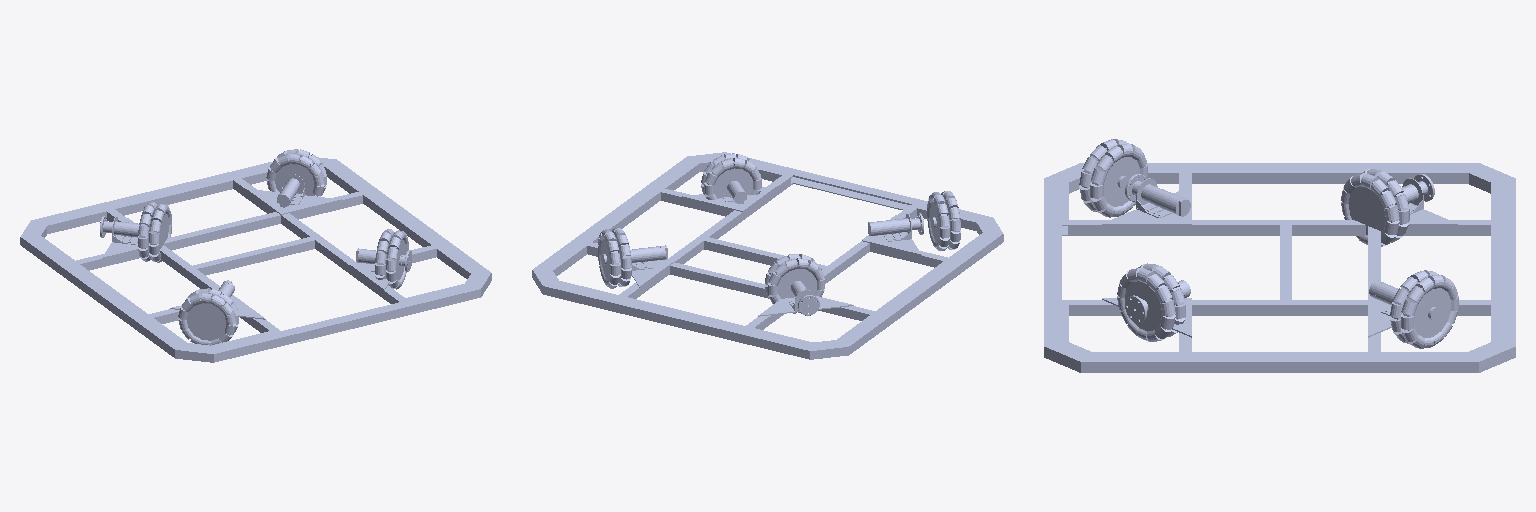
robot.urdf — Final_assembly_robocon:
<?xml version="1.0" encoding="utf-8"?>
<!-- This URDF was automatically created by SolidWorks to URDF Exporter! Originally created by [author] ([email redacted]) 
     Commit Version: 1.6.0-1-g15f4949  Build Version: 1.6.7594.29634
     For more information, please see http://wiki.ros.org/sw_urdf_exporter -->
<robot
  name="Final_assembly_robocon">
  <link
    name="base_link">
    <inertial>
      <origin
        xyz="-1.37853384098331E-07 0.00911018032229258 -0.0138175795946178"
        rpy="0 0 0" />
      <mass
        value="3.33742395913258" />
      <inertia
        ixx="0.250426120078326"
        ixy="-3.00125460809131E-08"
        ixz="4.78803539427229E-09"
        iyy="0.51613258114542"
        iyz="-5.01539743876125E-05"
        izz="0.266376294317245" />
    </inertial>
    <visual>
      <origin
        xyz="0 0 0"
        rpy="0 0 0" />
      <geometry>
        <mesh
          filename="package://Final_assembly_robocon/meshes/base_link.STL" />
      </geometry>
      <material
        name="">
        <color
          rgba="0.792156862745098 0.819607843137255 0.933333333333333 1" />
      </material>
    </visual>
    <collision>
      <origin
        xyz="0 0 0"
        rpy="0 0 0" />
      <geometry>
        <mesh
          filename="package://Final_assembly_robocon/meshes/base_link.STL" />
      </geometry>
    </collision>
  </link>
  <link
    name="front_left">
    <inertial>
      <origin
        xyz="-5.5511E-17 1.0408E-16 0.11113"
        rpy="0 0 0" />
      <mass
        value="0.80093" />
      <inertia
        ixx="0.0012851"
        ixy="1.3067E-18"
        ixz="-5.9631E-19"
        iyy="0.0012851"
        iyz="5.2252E-19"
        izz="0.0025006" />
    </inertial>
    <visual>
      <origin
        xyz="0 0 0"
        rpy="0 0 0" />
      <geometry>
        <mesh
          filename="package://Final_assembly_robocon/meshes/front_left.STL" />
      </geometry>
      <material
        name="">
        <color
          rgba="0.79216 0.81961 0.93333 1" />
      </material>
    </visual>
    <collision>
      <origin
        xyz="0 0 0"
        rpy="0 0 0" />
      <geometry>
        <mesh
          filename="package://Final_assembly_robocon/meshes/front_left.STL" />
      </geometry>
    </collision>
  </link>
  <joint
    name="front_left_joint"
    type="continuous">
    <origin
      xyz="0.24229 -0.24229 0.0442"
      rpy="1.5708 0 0.7854" />
    <parent
      link="base_link" />
    <child
      link="front_left" />
    <axis
      xyz="0 0 1" />
    <limit
      effort="10"
      velocity="10" />
    <dynamics
      damping="1000"
      friction="1000" />
  </joint>
  <link
    name="front_right">
    <inertial>
      <origin
        xyz="-2.7756E-17 8.3267E-17 0.00097337"
        rpy="0 0 0" />
      <mass
        value="0.80093" />
      <inertia
        ixx="0.0012851"
        ixy="9.6743E-19"
        ixz="-1.0842E-19"
        iyy="0.0012851"
        iyz="-3.8401E-19"
        izz="0.0025006" />
    </inertial>
    <visual>
      <origin
        xyz="0 0 0"
        rpy="0 0 0" />
      <geometry>
        <mesh
          filename="package://Final_assembly_robocon/meshes/front_right.STL" />
      </geometry>
      <material
        name="">
        <color
          rgba="0.79216 0.81961 0.93333 1" />
      </material>
    </visual>
    <collision>
      <origin
        xyz="0 0 0"
        rpy="0 0 0" />
      <geometry>
        <mesh
          filename="package://Final_assembly_robocon/meshes/front_right.STL" />
      </geometry>
    </collision>
  </link>
  <joint
    name="front_right_joint"
    type="continuous">
    <origin
      xyz="-0.32018 -0.32018 0.0442"
      rpy="1.5708 0 -0.7854" />
    <parent
      link="base_link" />
    <child
      link="front_right" />
    <axis
      xyz="0 0 1" />
    <limit
      effort="10"
      velocity="10" />
    <dynamics
      damping="1000"
      friction="1000" />
  </joint>
  <link
    name="back_left">
    <inertial>
      <origin
        xyz="2.7756E-17 9.7145E-17 0.00097337"
        rpy="0 0 0" />
      <mass
        value="0.80093" />
      <inertia
        ixx="0.0012851"
        ixy="1.2468E-18"
        ixz="2.7105E-19"
        iyy="0.0012851"
        iyz="-2.6834E-18"
        izz="0.0025006" />
    </inertial>
    <visual>
      <origin
        xyz="0 0 0"
        rpy="0 0 0" />
      <geometry>
        <mesh
          filename="package://Final_assembly_robocon/meshes/back_left.STL" />
      </geometry>
      <material
        name="">
        <color
          rgba="0.79216 0.81961 0.93333 1" />
      </material>
    </visual>
    <collision>
      <origin
        xyz="0 0 0"
        rpy="0 0 0" />
      <geometry>
        <mesh
          filename="package://Final_assembly_robocon/meshes/back_left.STL" />
      </geometry>
    </collision>
  </link>
  <joint
    name="back_left_joint"
    type="continuous">
    <origin
      xyz="0.32018 0.32018 0.0442"
      rpy="1.5708 0.42736 2.3562" />
    <parent
      link="base_link" />
    <child
      link="back_left" />
    <axis
      xyz="0 0 -1" />
    <limit
      effort="10"
      velocity="10" />
    <dynamics
      damping="1000"
      friction="1000" />
  </joint>
  <link
    name="back_right">
    <inertial>
      <origin
        xyz="2.6368E-16 8.3267E-17 0.14414"
        rpy="0 0 0" />
      <mass
        value="0.80093" />
      <inertia
        ixx="0.0012851"
        ixy="1.03E-18"
        ixz="1.9787E-18"
        iyy="0.0012851"
        iyz="2.1684E-19"
        izz="0.0025006" />
    </inertial>
    <visual>
      <origin
        xyz="0 0 0"
        rpy="0 0 0" />
      <geometry>
        <mesh
          filename="package://Final_assembly_robocon/meshes/back_right.STL" />
      </geometry>
      <material
        name="">
        <color
          rgba="0.79216 0.81961 0.93333 1" />
      </material>
    </visual>
    <collision>
      <origin
        xyz="0 0 0"
        rpy="0 0 0" />
      <geometry>
        <mesh
          filename="package://Final_assembly_robocon/meshes/back_right.STL" />
      </geometry>
    </collision>
  </link>
  <joint
    name="back_right_joint"
    type="continuous">
    <origin
      xyz="-0.21895 0.21895 0.0442"
      rpy="1.5708 0.76268 -2.3562" />
    <parent
      link="base_link" />
    <child
      link="back_right" />
    <axis
      xyz="0 0 -1" />
    <limit
      effort="10"
      velocity="10" />
    <dynamics
      damping="1000"
      friction="1000" />
  </joint>
</robot>

--- What the picture shows (computed from the rendered views, not written in the file) ---
3 views of the same robot in one strip: view 1: azimuth 30°, elevation 25°; view 2: azimuth 150°, elevation 25°; view 3: azimuth 270°, elevation 25° (orthographic).
Model Final_assembly_robocon with 5 links and 4 joints (4 continuous), rooted at base_link, posed every joint at zero.
Visible links, largest first — view 1: base_link, front_right, back_left, back_right, front_left; view 2: base_link, back_right, front_left, back_left, front_right; view 3: base_link, back_left, front_right, back_right, front_left.
Link boxes in pixels (x1,y1,x2,y2): base_link: (20, 157, 491, 362); front_right: (178, 288, 238, 345); back_left: (266, 149, 326, 196); back_right: (138, 202, 171, 262); front_left: (375, 229, 408, 289); base_link: (532, 152, 1003, 359); back_right: (764, 254, 824, 313); front_left: (701, 153, 761, 199); back_left: (598, 228, 631, 288); front_right: (927, 191, 960, 250); base_link: (1044, 163, 1515, 372); back_left: (1390, 270, 1458, 348); front_right: (1079, 139, 1147, 217); back_right: (1341, 169, 1409, 246); front_left: (1117, 263, 1185, 341).
Size in the robot's own frame: 0.9708 by 0.9708 by 0.1591 metres.
5 mesh visuals loaded from 5 distinct referenced files (5 binary STL).